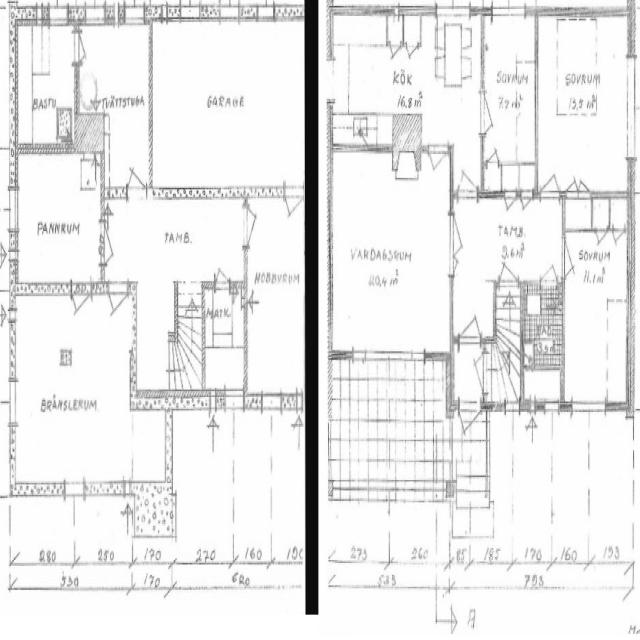door: (459, 402, 481, 458), (71, 284, 91, 339), (100, 220, 125, 264), (108, 284, 128, 338), (459, 292, 480, 342), (126, 146, 146, 197), (428, 144, 448, 195), (457, 148, 477, 198), (481, 90, 504, 133), (244, 206, 267, 247), (540, 151, 560, 198), (450, 216, 473, 256), (498, 240, 517, 286), (284, 188, 302, 236), (562, 239, 583, 276), (466, 354, 486, 392), (540, 243, 557, 286), (75, 31, 95, 66), (214, 248, 229, 288), (566, 166, 578, 198), (578, 166, 590, 198), (594, 226, 606, 258), (613, 226, 625, 257), (521, 192, 533, 222), (505, 192, 516, 223), (487, 136, 498, 163), (450, 256, 464, 276), (390, 43, 400, 69), (407, 43, 417, 69)
